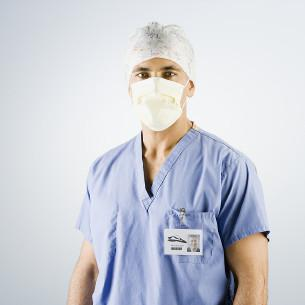OK: (129, 64, 196, 131)
